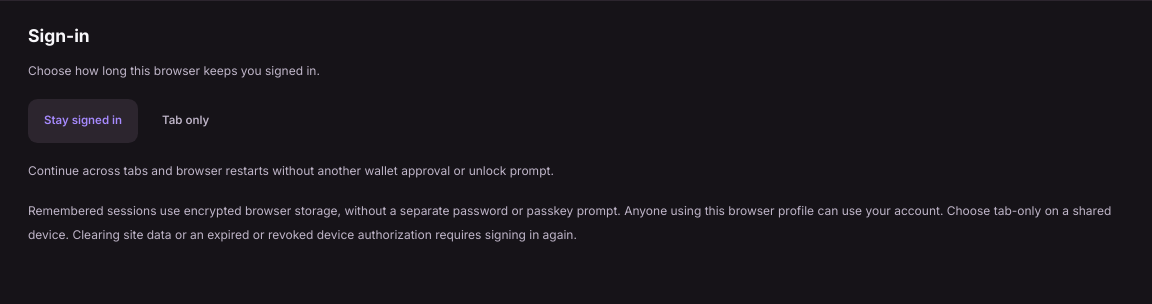
Scenario: session lifetime settings › keeps tab-only selected and warns when the saved key cannot be removed
What coordinates should you click on to do the following:
click the button "Tab only"
I would click on:
 (186, 121)
Its box is [146, 99, 225, 143].
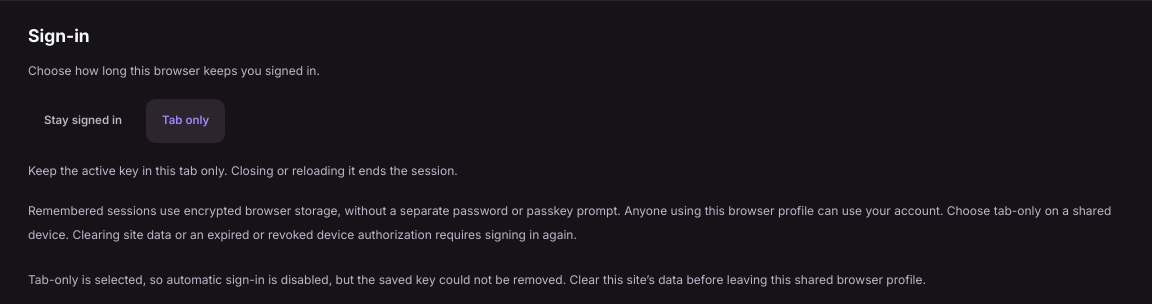
Expected: the message shows "automatic sign-in is disabled", [28, 272, 926, 287]
Expected: the message shows "saved key could not be removed", [28, 272, 926, 287]
Expected: the message shows "Clear this site’s data", [28, 272, 926, 287]
